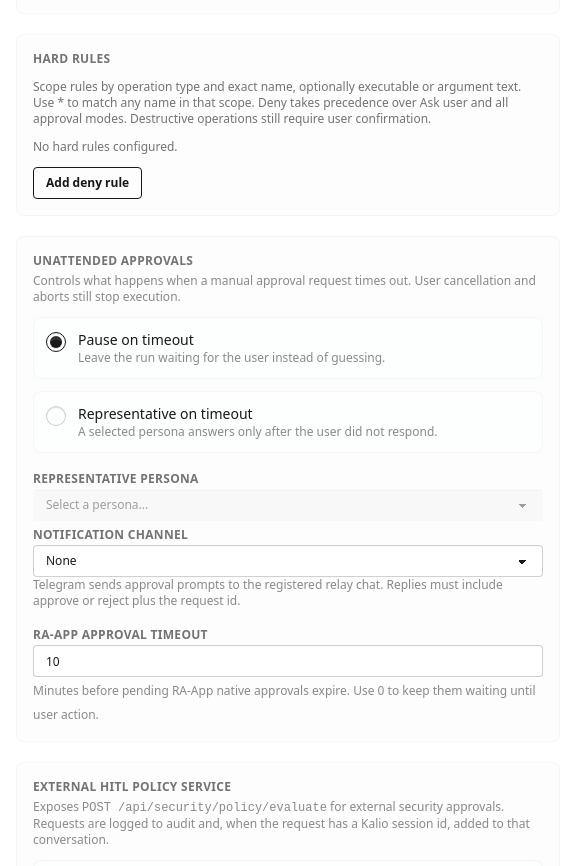
Test: HITLSettingsPanel › blocks representative fallback when no persona is selected
(page scrolled)
Step 1. Click the radio button labelled "Representative on timeout" → x=56, y=416, box x1=46 y1=406 x2=66 y2=426
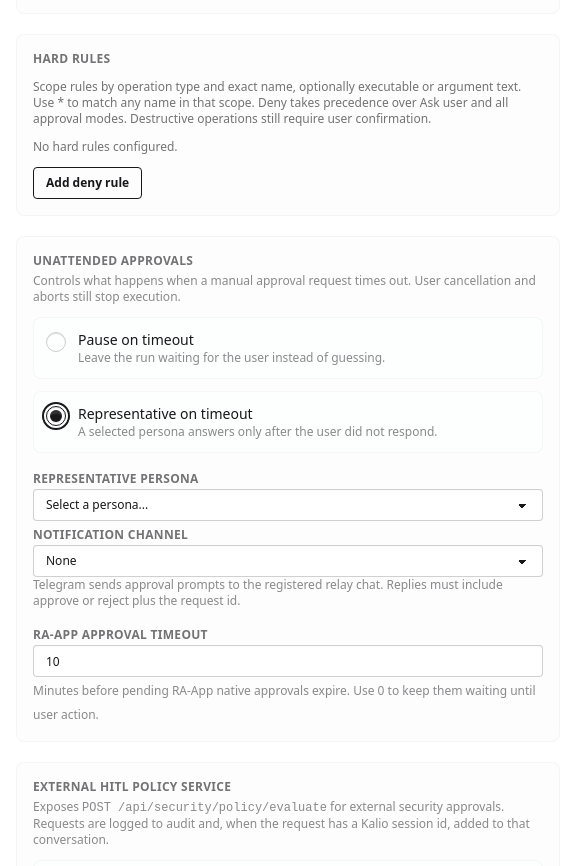
Step 2. Select "Select a persona..." in the dropdown labelled "Representative persona" → x=288, y=505, box x1=33 y1=489 x2=543 y2=521
(page scrolled)
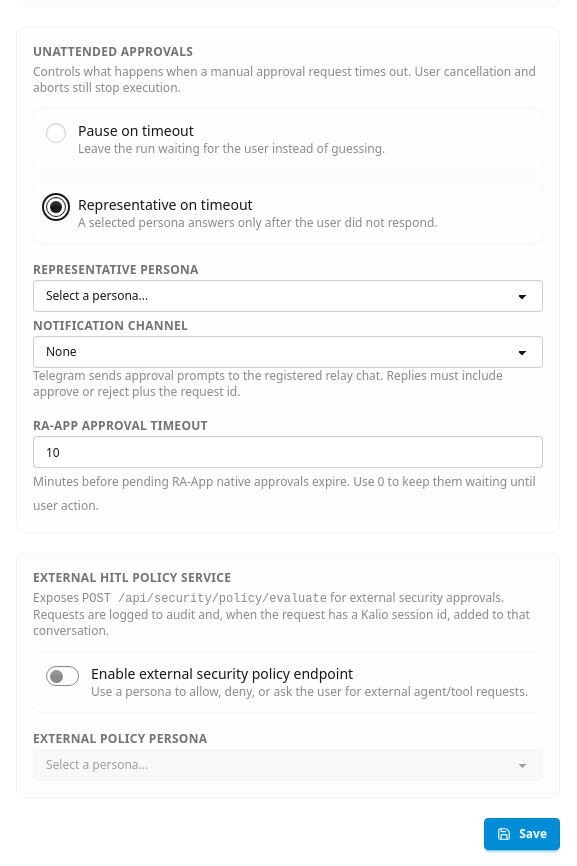
Step 3. Click the button "Save" → x=522, y=834, box x1=484 y1=818 x2=560 y2=850
(page scrolled)
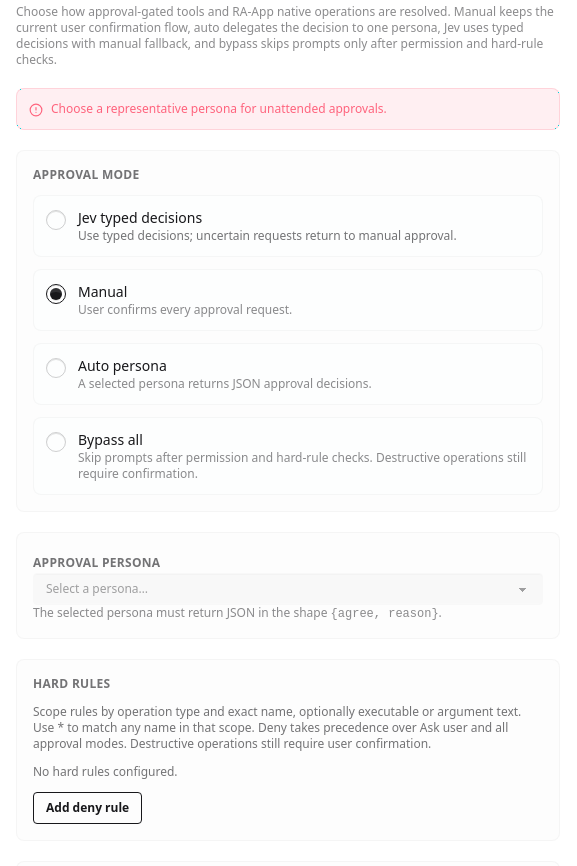
Expected: the text "Choose a representative persona for unattended approvals." is shown, x1=51 y1=101 x2=387 y2=117
